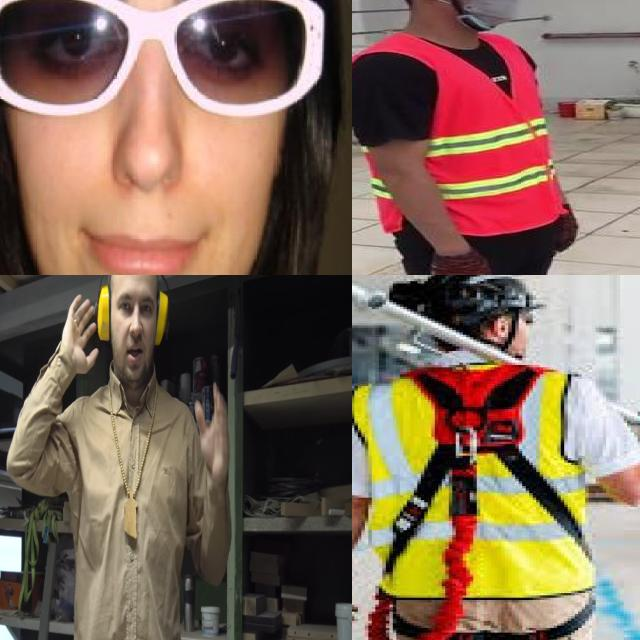Ear-protection: (95, 275, 174, 394)
Harness: (384, 365, 588, 576)
face_mask: (449, 0, 533, 29)
face_nomask: (32, 0, 256, 275)
glasses: (0, 0, 349, 119)
hand_glove: (428, 254, 492, 275)
person: (352, 0, 617, 275)
vest: (352, 30, 567, 233)
